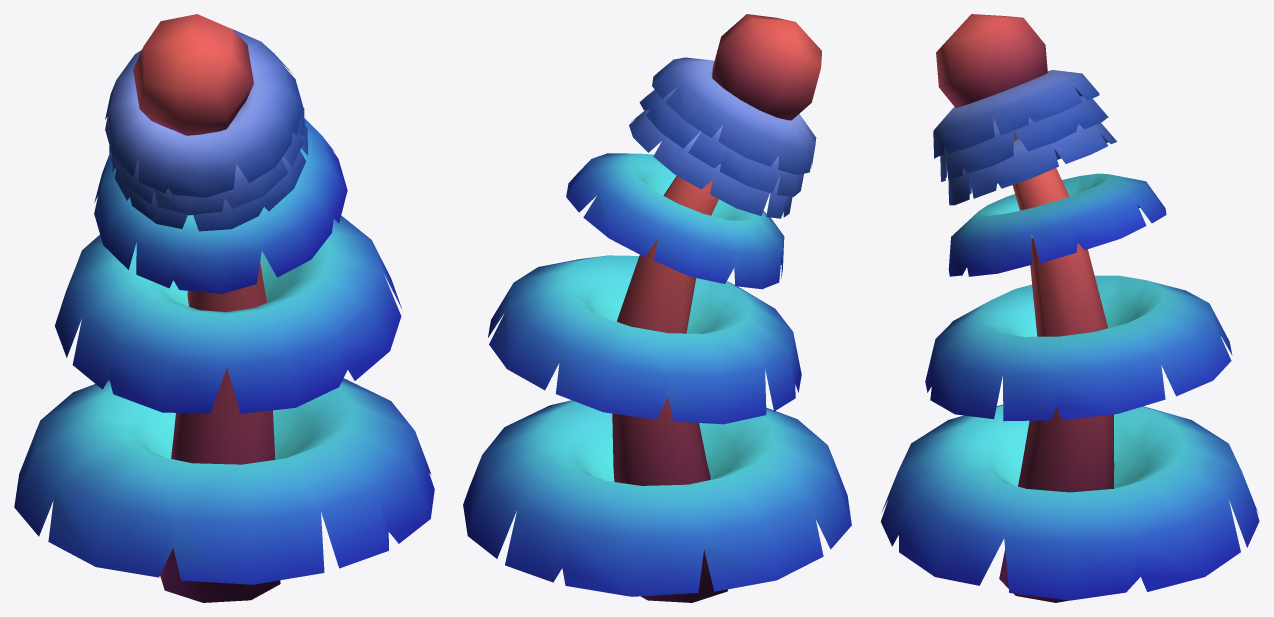
The model's file is anp_PlantFlower_3.fbx.
3 renders of one model, left to right at view 1: azimuth 30°, elevation 25°; view 2: azimuth 150°, elevation 25°; view 3: azimuth 270°, elevation 25°, orthographic. The views are drawn at different scales.
Visible parts, largest first — view 1: pf3; view 2: pf3; view 3: pf3.
Boxes of the visible parts, x1,y1,x2,y2 form: pf3: [14, 14, 434, 602]; pf3: [463, 14, 851, 602]; pf3: [880, 14, 1259, 602].
Bounding box in the file's own units: 62.43 × 97.07 × 62.18.
